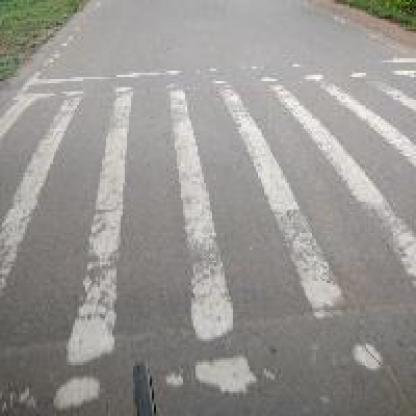Speed Bump: (6, 60, 414, 412)
